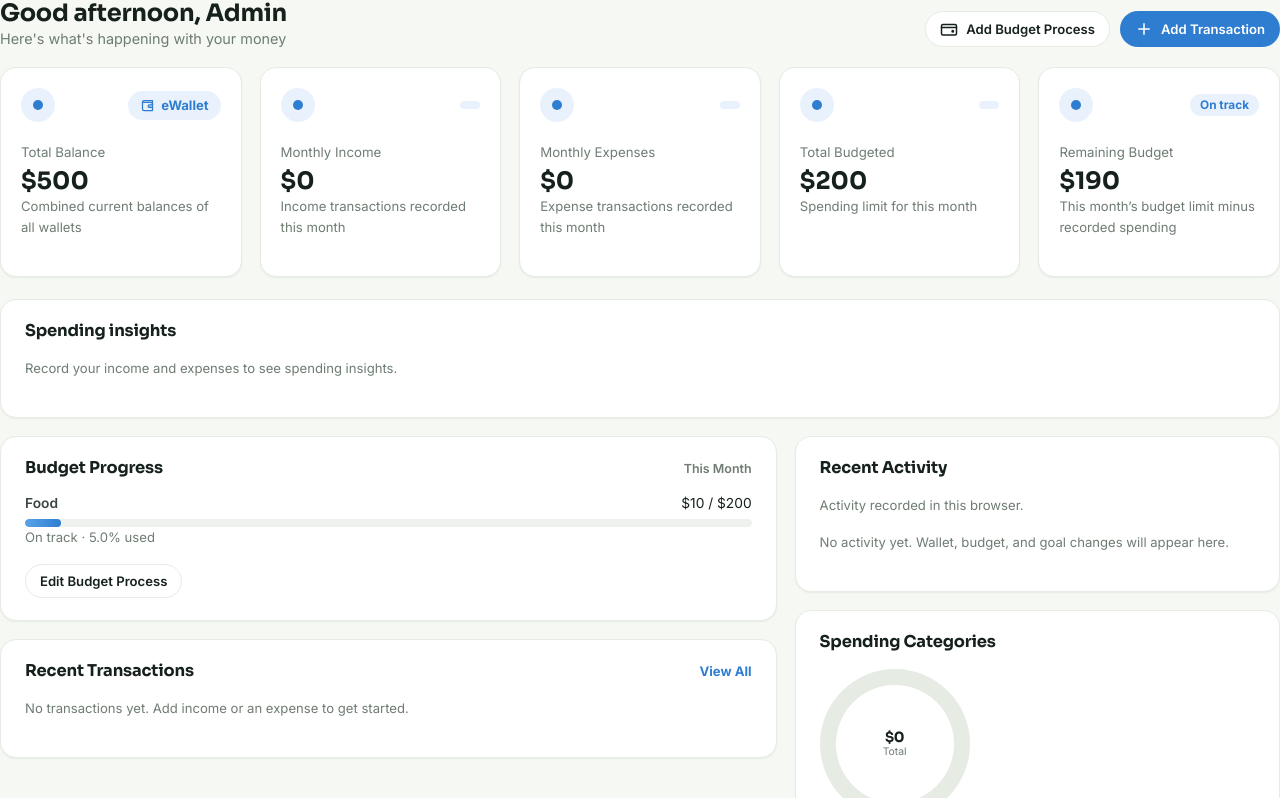
Test case: asks for a password before deleting and shows a rejected password
This screenshot has width=1280, height=798.
Step 1. Click the button "eWallet" → (174, 105), box top-left (128, 91), bottom-right (221, 120)
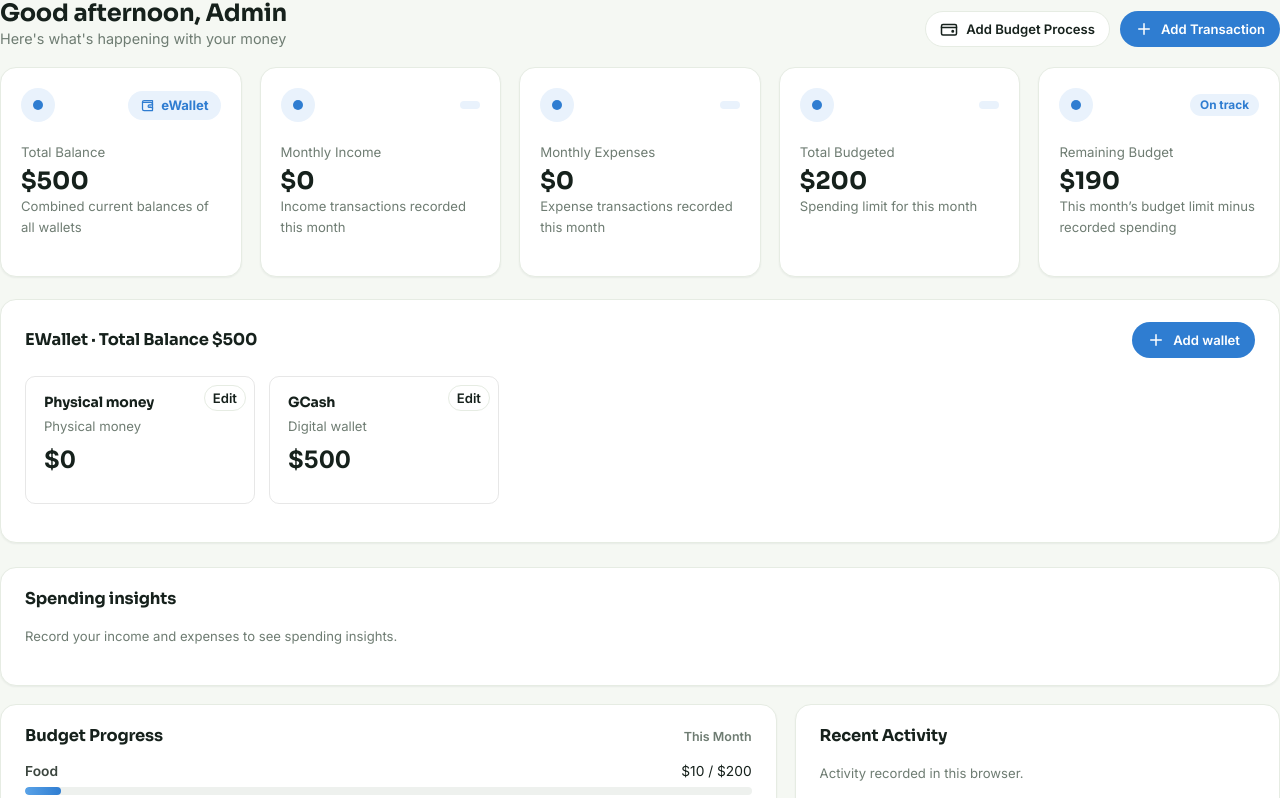
Step 2. Click the button with aria-label "Edit GCash" → (469, 398), box top-left (448, 385), bottom-right (490, 411)
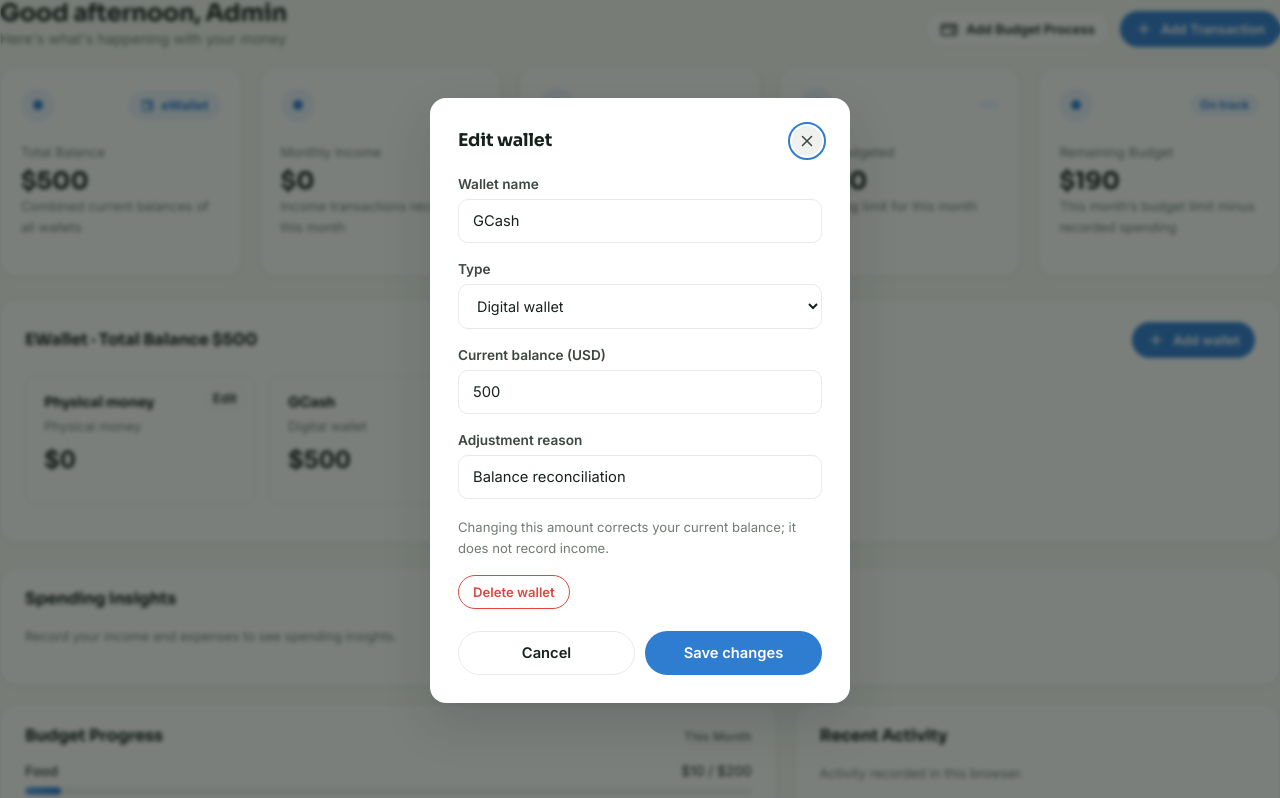
Step 3. Click the button "Delete wallet" → (514, 592), box top-left (458, 574), bottom-right (570, 608)
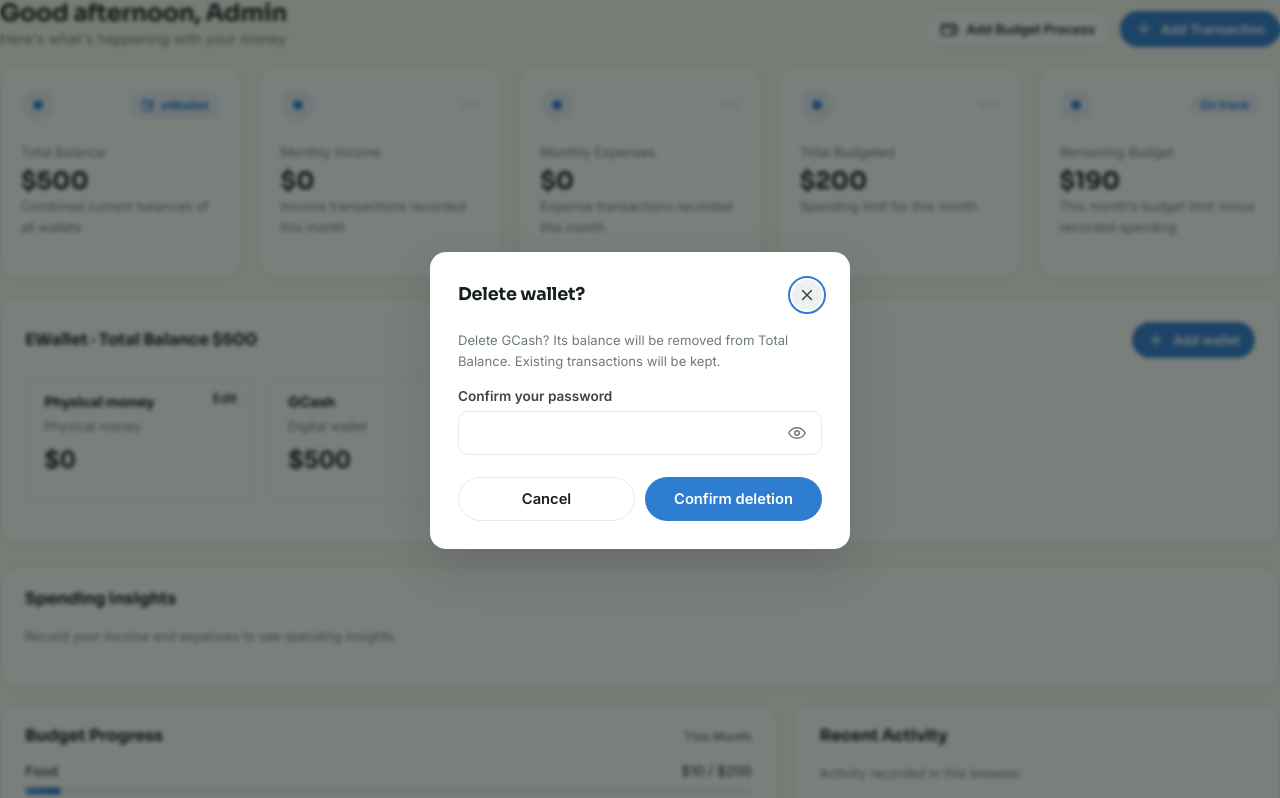
Step 4. Type "wrong-password" into the password field labelled "Confirm your password" → (640, 432), box top-left (458, 410), bottom-right (822, 454)
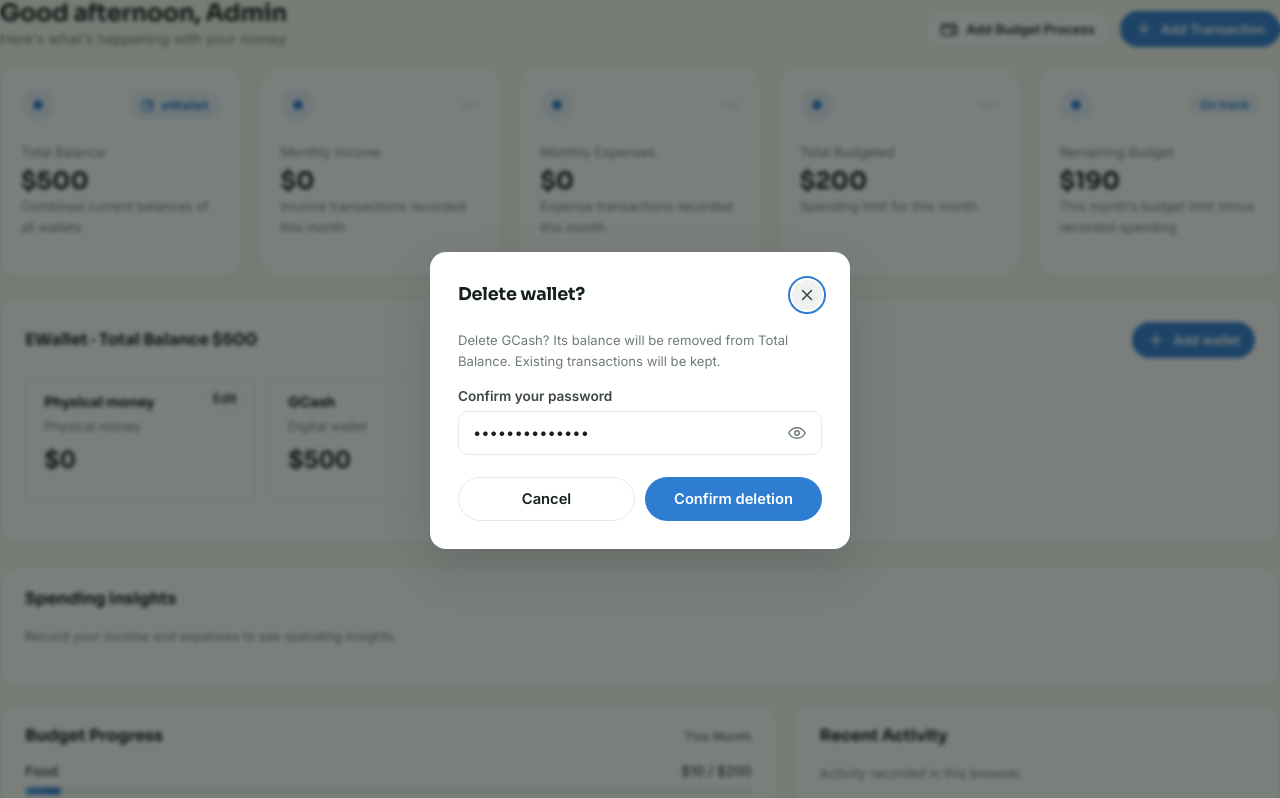
Step 5. Click the button "Confirm deletion" → (734, 498), box top-left (645, 476), bottom-right (822, 520)
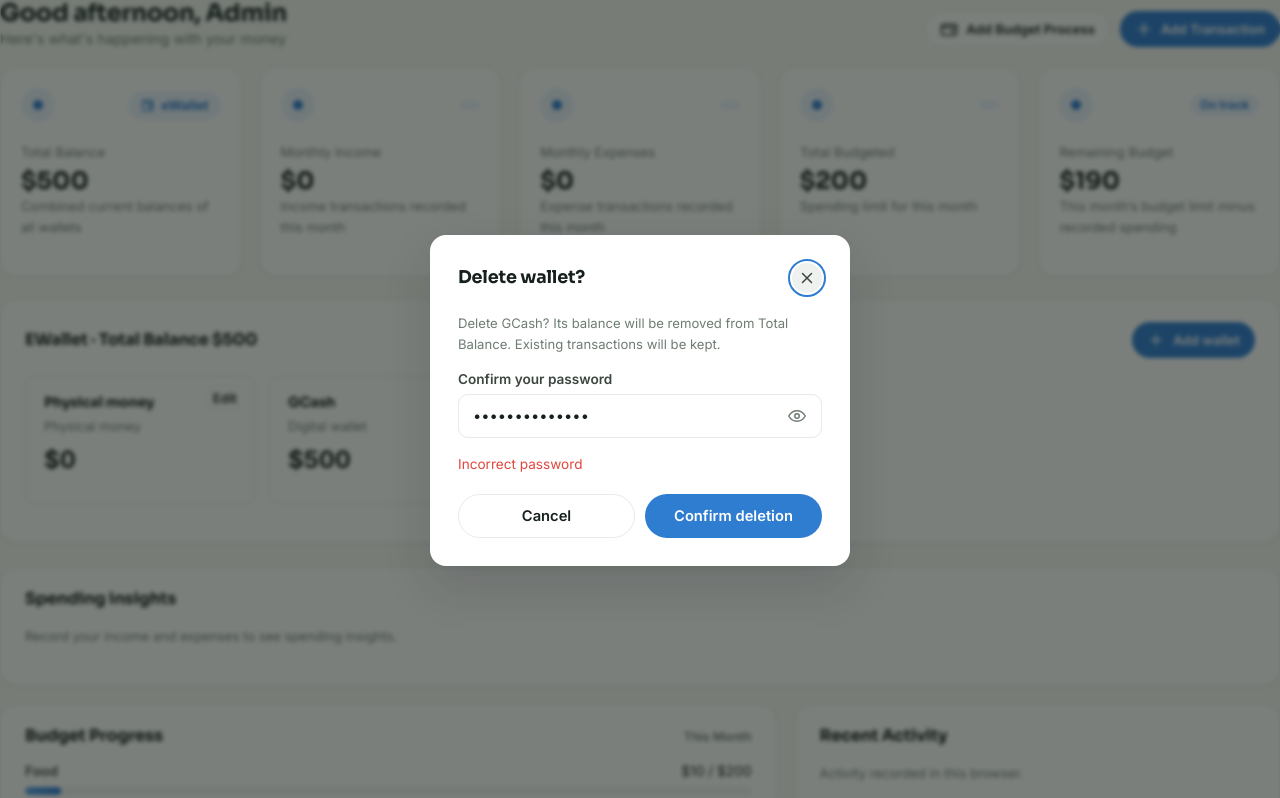
expect the message reads "Incorrect password": met, box top-left (458, 456), bottom-right (582, 472)
